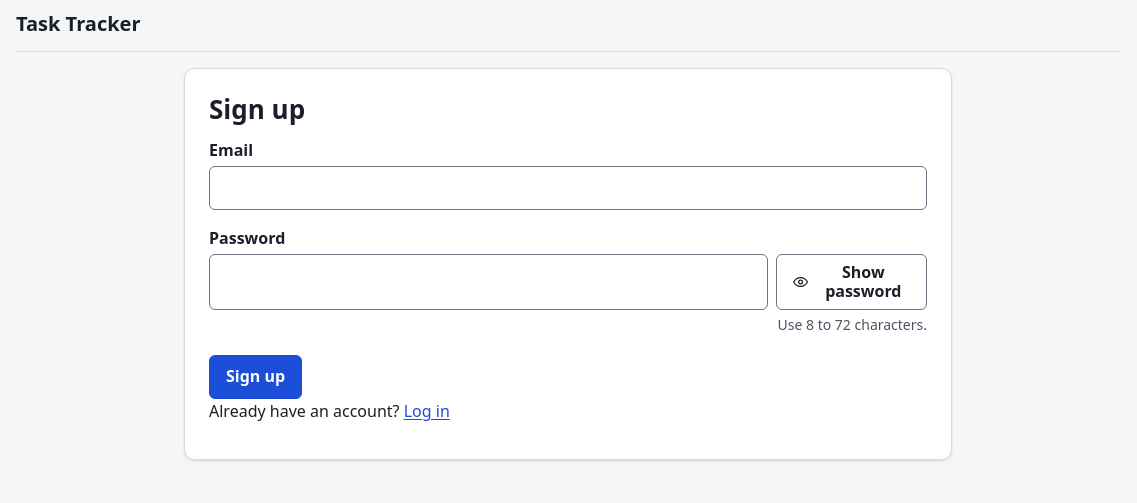
Test: signup › a short password is stopped in the browser, with focus on the field
Type "new@example.com" into the field labelled "Email".
click(568, 188); type("new@example.com")  # box [209,166,927,210]
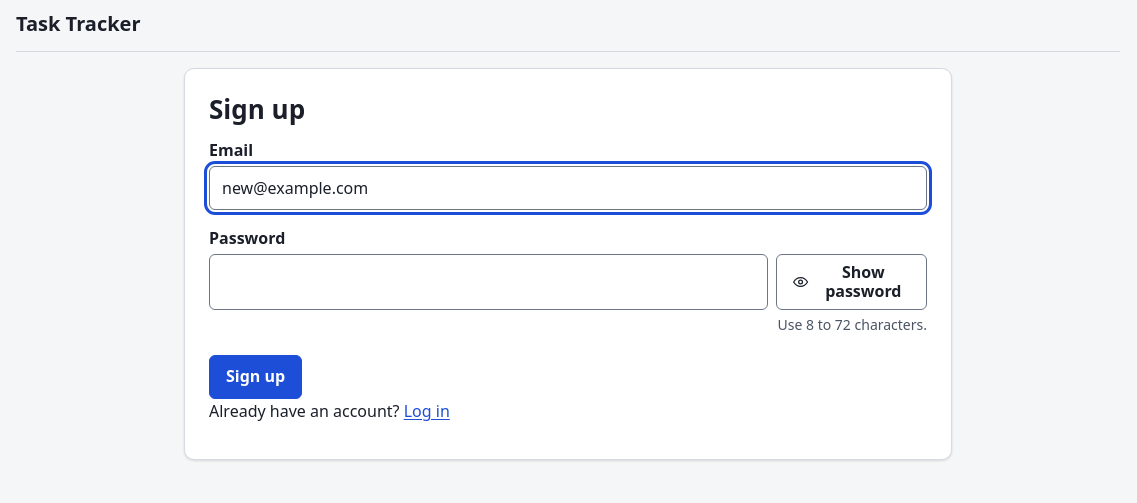
Type "short" into the password field labelled "Password".
click(489, 282); type("short")  # box [209,254,768,310]
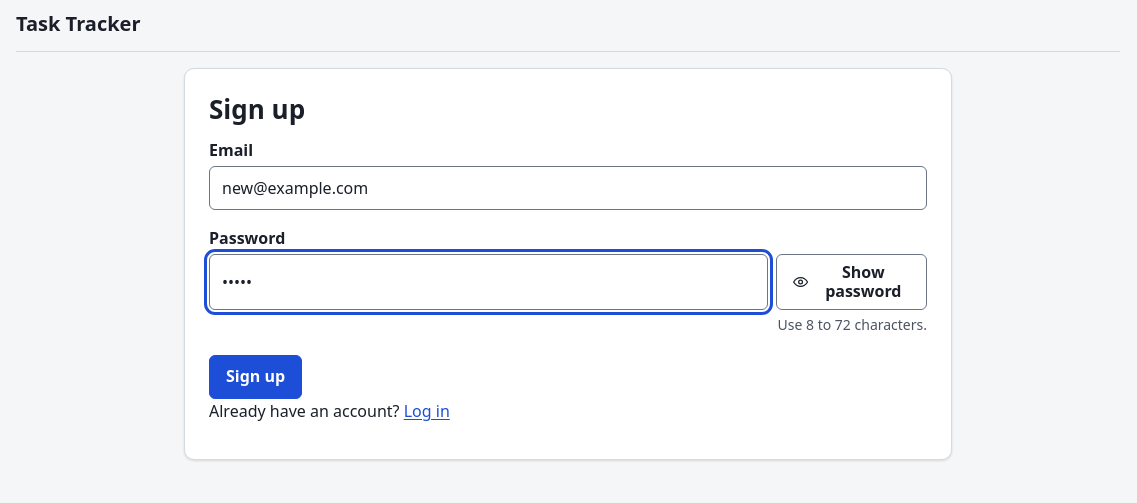
Click the button "Sign up".
click(256, 377)  # box [209,355,302,399]
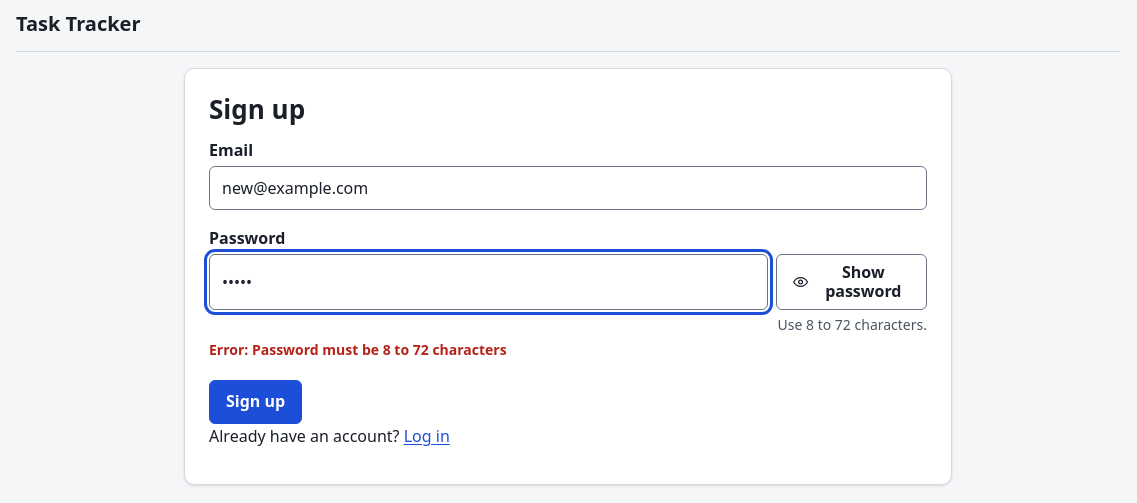
Expected: the text "Password must be 8 to 72 characters" is shown, [252,340,507,359]
